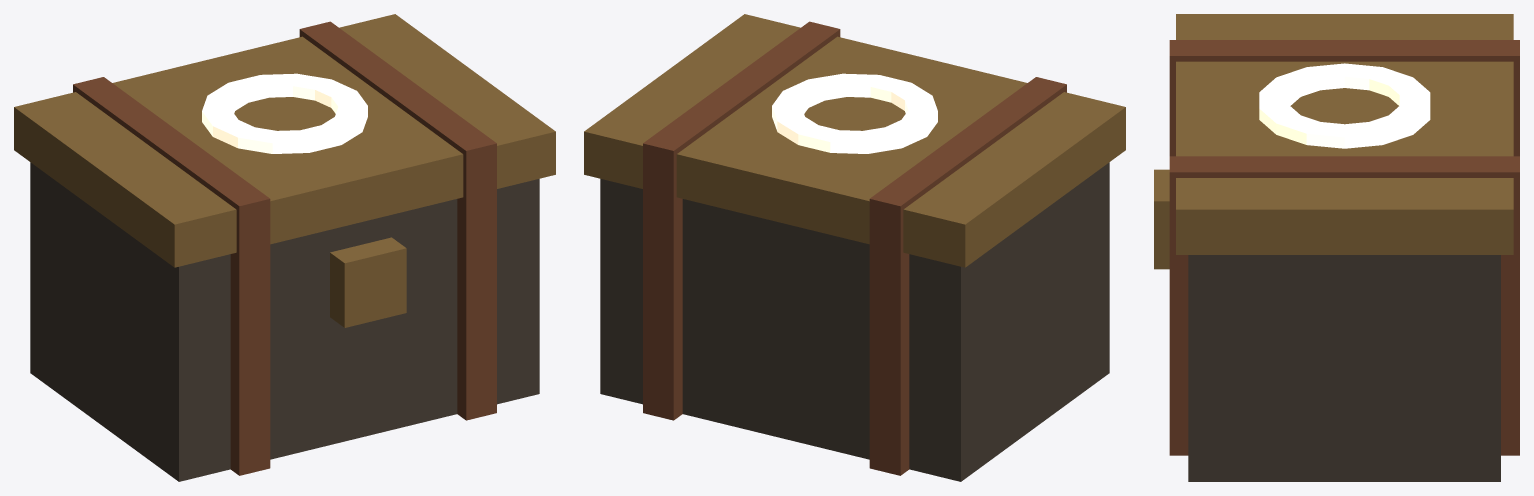
File: sealed_box_blank.glb
3 views of the same model, side by side, from view 1: azimuth 30°, elevation 25°; view 2: azimuth 150°, elevation 25°; view 3: azimuth 270°, elevation 25° (orthographic). The views are drawn at different scales.
Visible parts, largest first — view 1: sealed_box_blank; view 2: sealed_box_blank; view 3: sealed_box_blank.
Part boxes in pixels (x1,y1,x2,y2): sealed_box_blank: (14, 14, 555, 481); sealed_box_blank: (584, 14, 1125, 481); sealed_box_blank: (1154, 14, 1519, 481).
Size of the model in its own units: 0.74 by 0.51 by 0.585.
